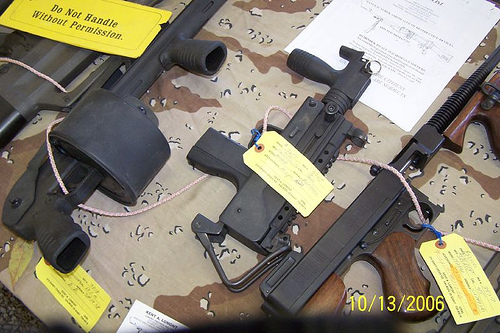rifle: (186, 44, 370, 262)
